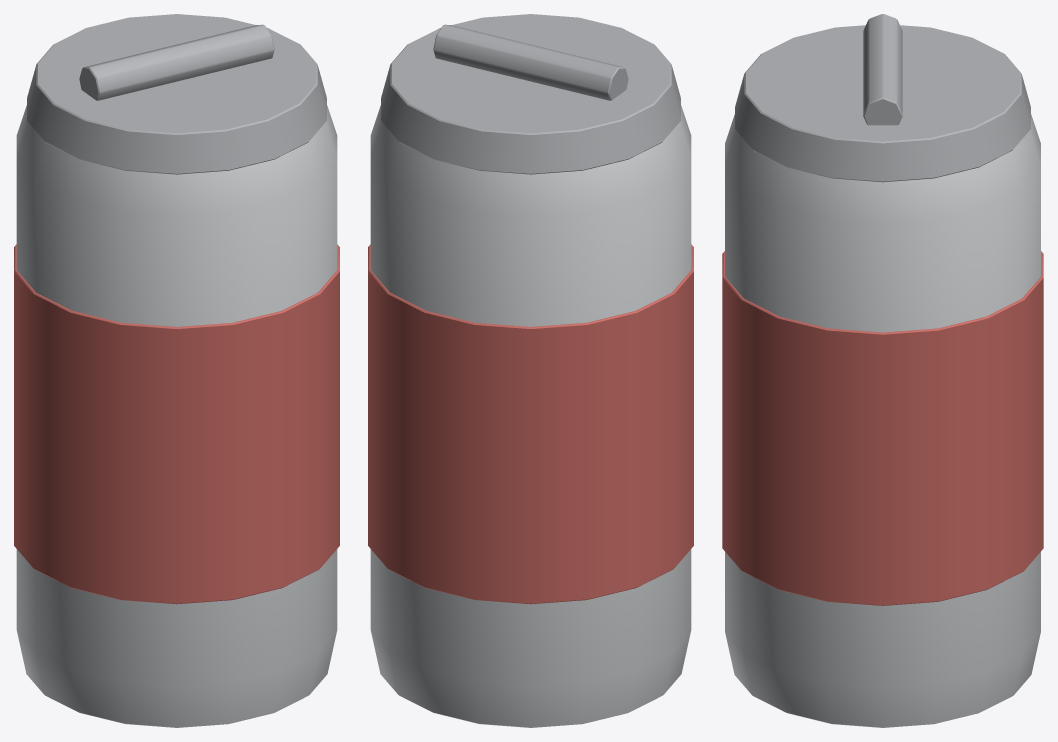
Rendered from IT_can_beans.fbx.
The picture shows the model from 3 angles, left to right: view 1: azimuth 30°, elevation 25°; view 2: azimuth 150°, elevation 25°; view 3: azimuth 270°, elevation 25°; orthographic projection.
Parts seen in each view (by area): view 1: IT_can_beans; view 2: IT_can_beans; view 3: IT_can_beans.
Boxes of the visible parts, x1,y1,x2,y2 form: IT_can_beans: (14, 14, 339, 727); IT_can_beans: (368, 14, 693, 727); IT_can_beans: (722, 14, 1043, 727).
Bounding box in the file's own units: 0.325 × 0.6695 × 0.3201.
